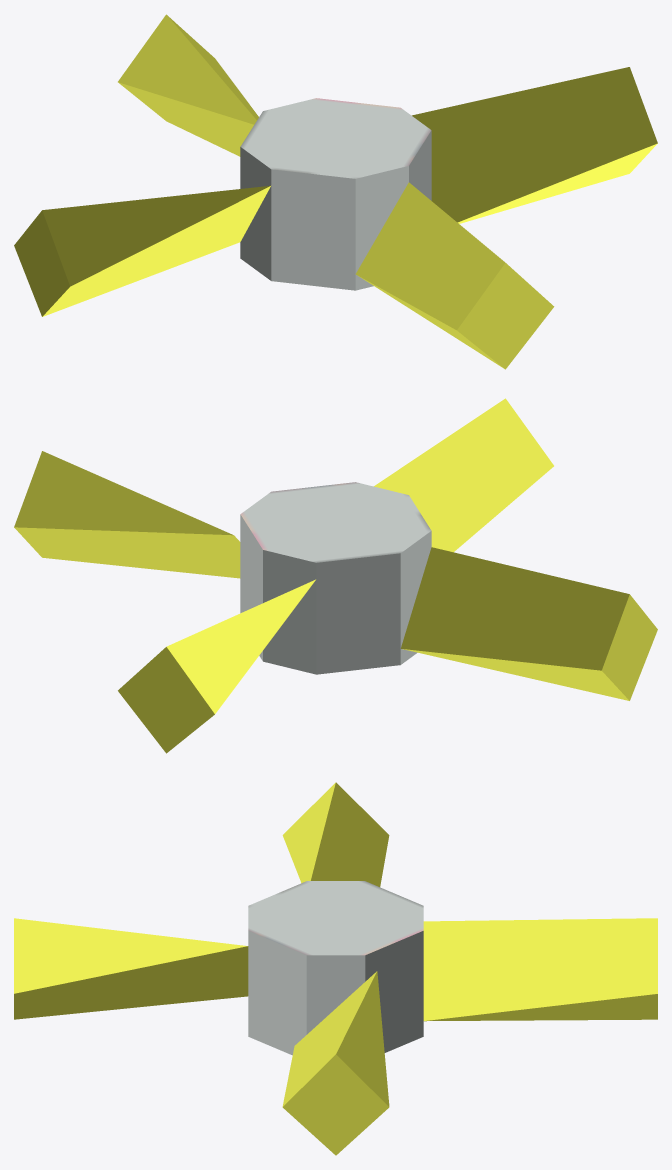
3 views of the same model, one above another, from view 1: azimuth 30°, elevation 25°; view 2: azimuth 150°, elevation 25°; view 3: azimuth 270°, elevation 25° (orthographic). The views are drawn at different scales.
Parts seen in each view (by area): view 1: part4; view 2: part4; view 3: part4.
Boxes of the visible parts, <box> form: part4: <box>14,14,657,369</box>; part4: <box>14,398,657,753</box>; part4: <box>14,782,657,1155</box>.
Bounding box in the file's own units: 5.5 × 1 × 5.5.
1 material, 1 textured.
